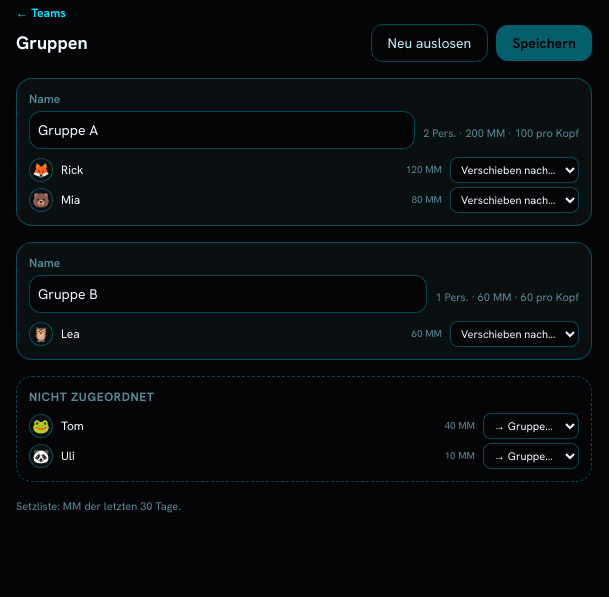
GroupEditor › refuses to save while a group is empty
The image size is (609, 597).
expect the field showing "Gruppe A" in the row of "200" is shown: met, box [29,111,415,149]
Select "Entfernen" in the dropdown named "Lea verschieben" at (514, 334), box [450,321,579,347]
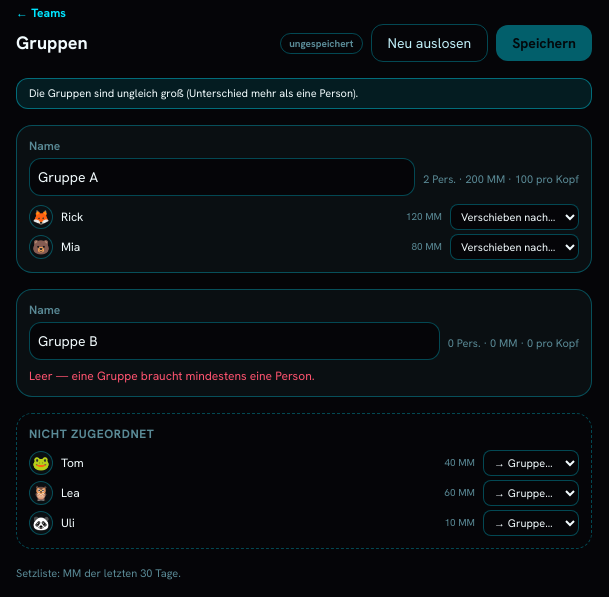
expect the button "Speichern" is disabled: met, box [496,25,592,61]
expect the text "ungespeichert" is shown: met, box [280,32,362,54]
expect the list item "Leer — eine Gruppe braucht mindestens eine Person." is shown: met, box [29,368,315,384]
